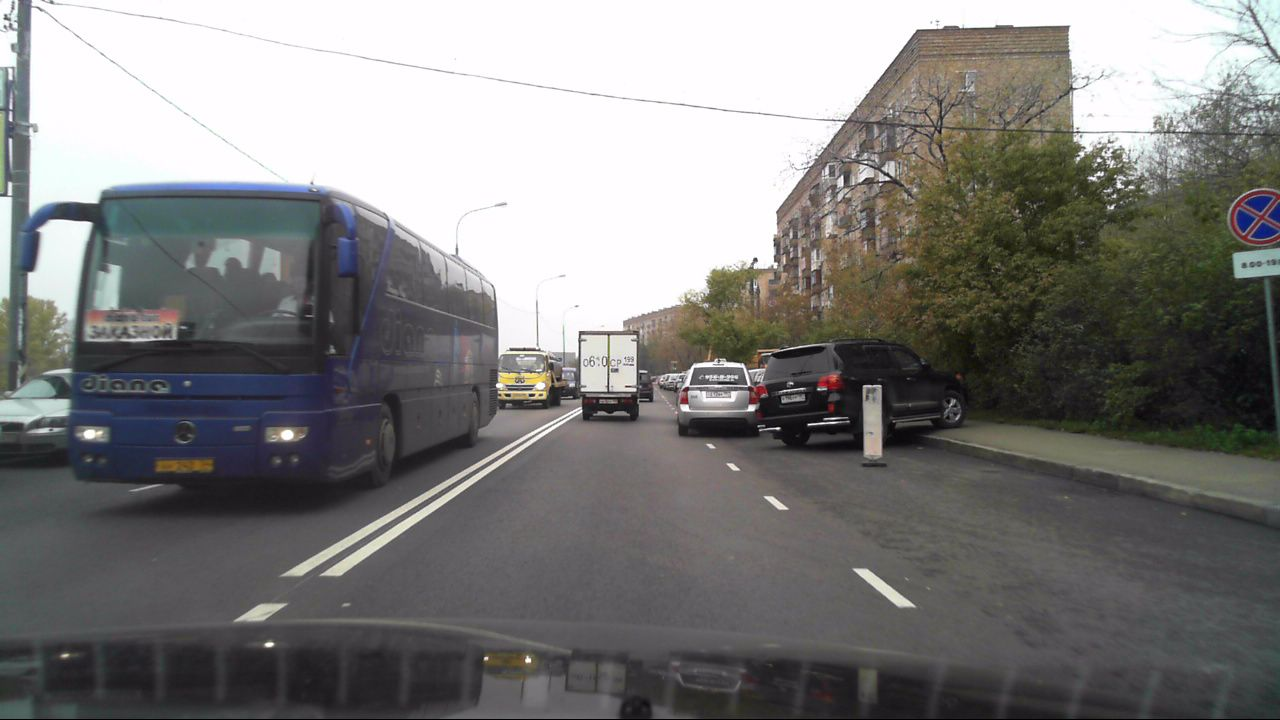No Parking: (1226, 186, 1279, 247)
